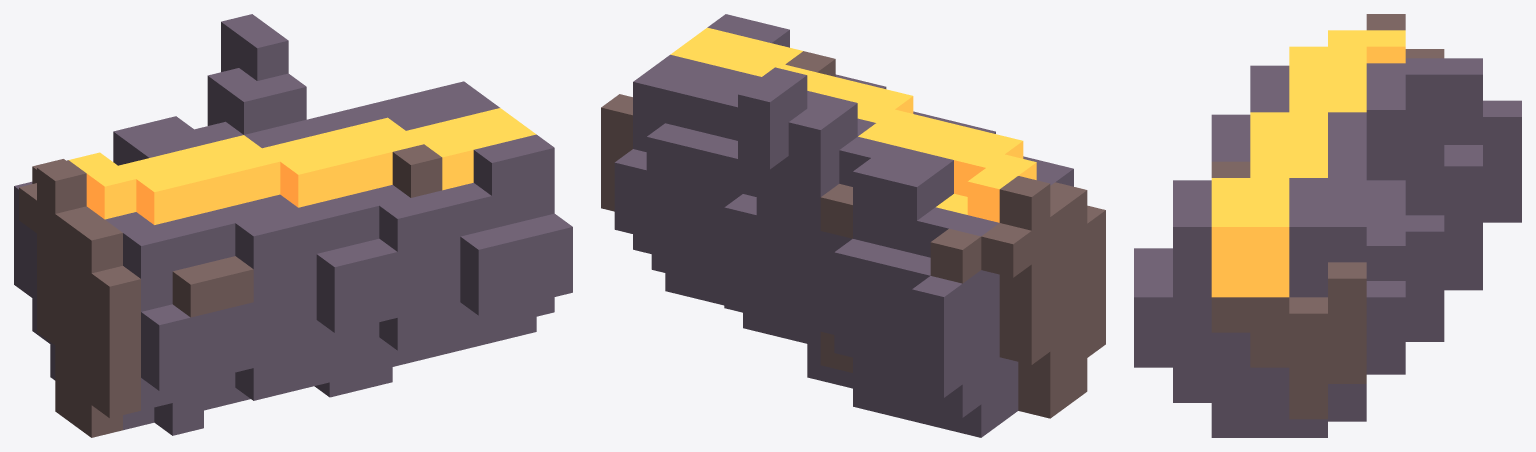
The model's file is fallen_charred_log.glb.
The picture shows the model from 3 angles, left to right: view 1: azimuth 30°, elevation 25°; view 2: azimuth 150°, elevation 25°; view 3: azimuth 270°, elevation 25°; orthographic projection. The views are drawn at different scales.
Bounding box in the file's own units: 0.875 × 0.5625 × 0.625.
